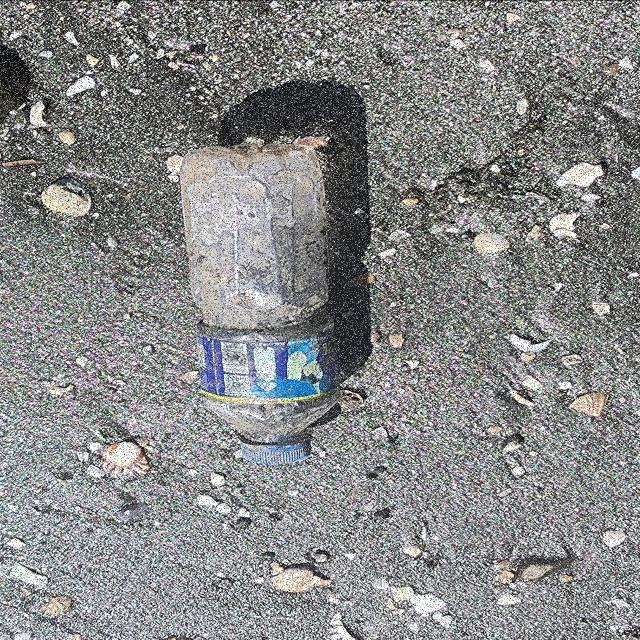plastic_waste: (180, 146, 342, 465)
